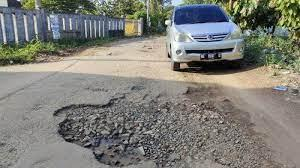Pothole: (37, 80, 300, 168)
